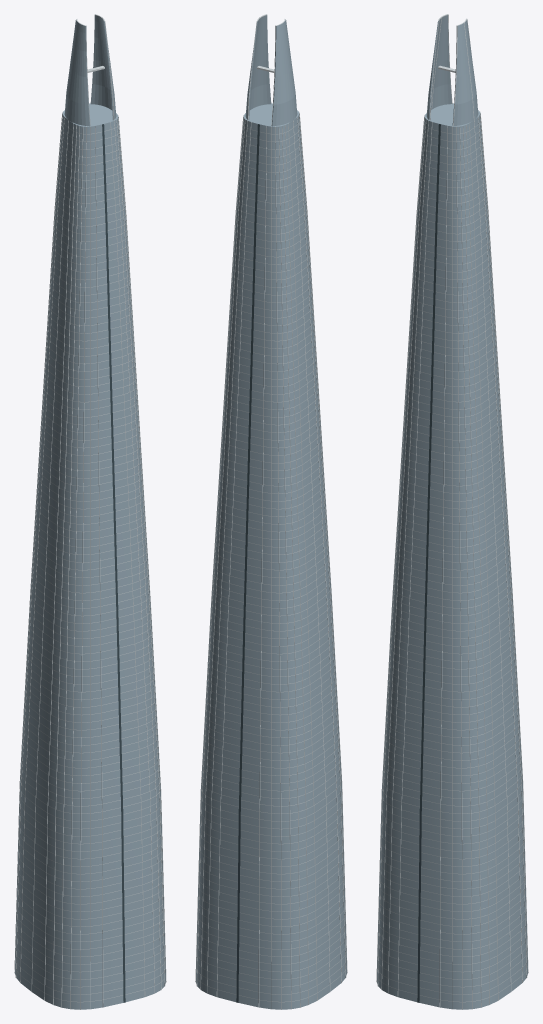
Rendered from lotte.glb.
The picture shows the model from 3 angles, left to right: view 1: azimuth 30°, elevation 25°; view 2: azimuth 150°, elevation 25°; view 3: azimuth 330°, elevation 25°; orthographic projection.
Parts seen in each view (by area): view 1: lotte_root_Lotte_Silver_Blue_Glazing, lotte_root_Lotte_Pale_Aluminium_Fins, lotte_root_Lotte_Dark_Vertical_Seam; view 2: lotte_root_Lotte_Silver_Blue_Glazing, lotte_root_Lotte_Pale_Aluminium_Fins, lotte_root_Lotte_Dark_Vertical_Seam; view 3: lotte_root_Lotte_Silver_Blue_Glazing, lotte_root_Lotte_Pale_Aluminium_Fins, lotte_root_Lotte_Dark_Vertical_Seam.
Part boxes in pixels (left/top/right/bottom): lotte_root_Lotte_Silver_Blue_Glazing: left=15, top=15, right=165, bottom=1009; lotte_root_Lotte_Pale_Aluminium_Fins: left=14, top=14, right=166, bottom=1009; lotte_root_Lotte_Dark_Vertical_Seam: left=102, top=124, right=125, bottom=1002; lotte_root_Lotte_Silver_Blue_Glazing: left=196, top=15, right=346, bottom=1009; lotte_root_Lotte_Pale_Aluminium_Fins: left=195, top=14, right=347, bottom=1009; lotte_root_Lotte_Dark_Vertical_Seam: left=236, top=124, right=259, bottom=1002; lotte_root_Lotte_Silver_Blue_Glazing: left=377, top=15, right=527, bottom=1009; lotte_root_Lotte_Pale_Aluminium_Fins: left=376, top=14, right=528, bottom=1009; lotte_root_Lotte_Dark_Vertical_Seam: left=417, top=124, right=440, bottom=1002.
Bounding box in the file's own units: 71.5 × 555 × 71.5.
